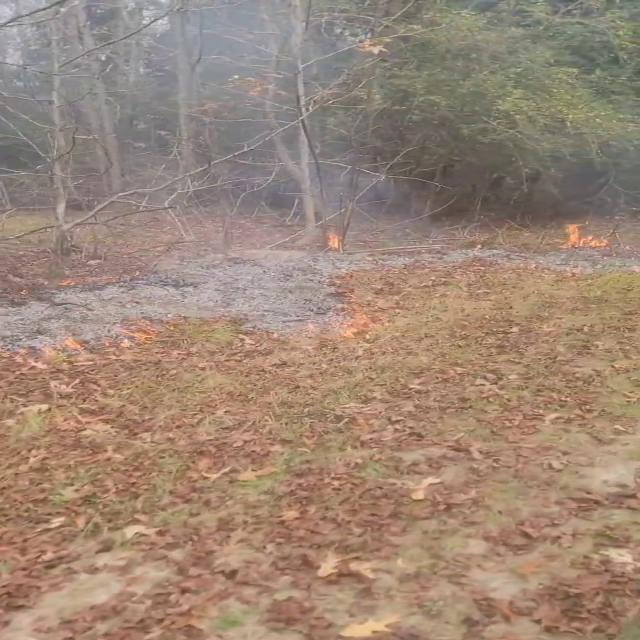Fire: (556, 218, 610, 250)
